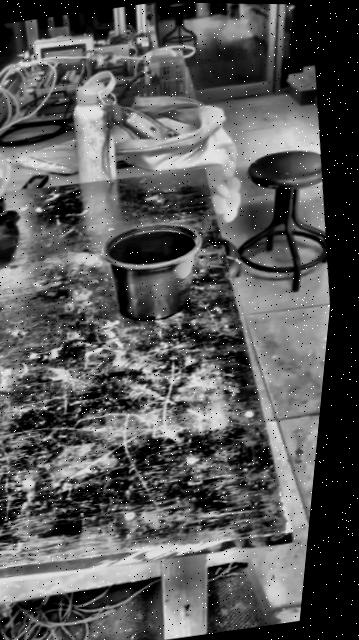pot: (92, 217, 210, 327)
